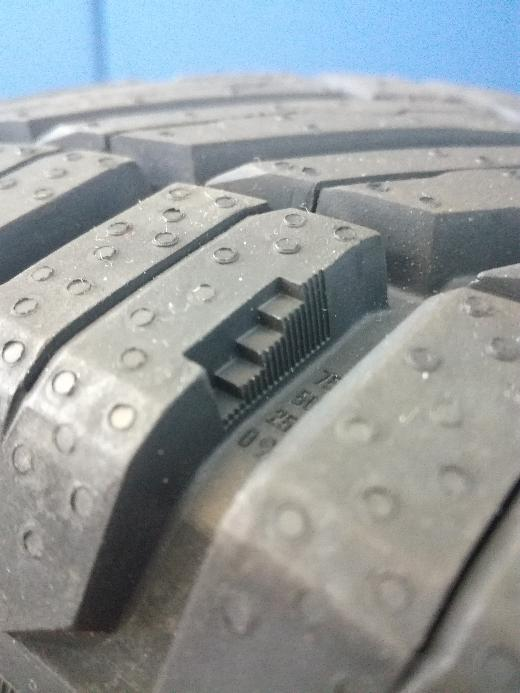temoin:100: (180, 267, 334, 435)
